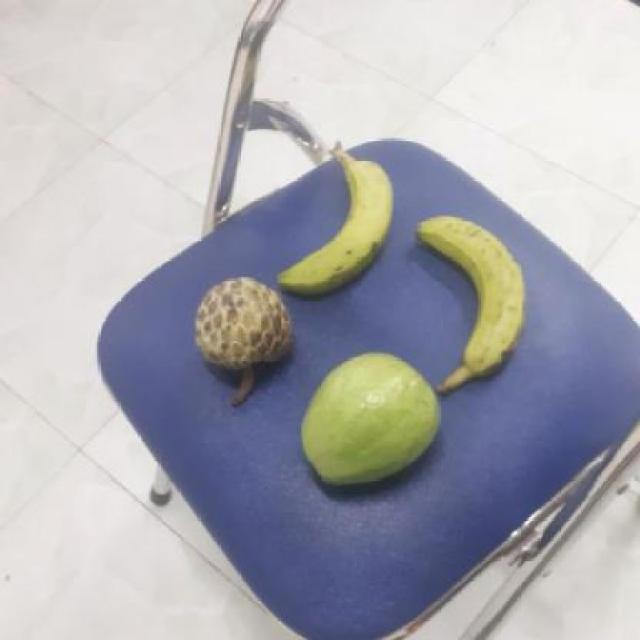banana: (412, 216, 537, 379), (280, 151, 402, 292)
guava: (300, 353, 445, 489)
sugar apple: (194, 277, 298, 398)
